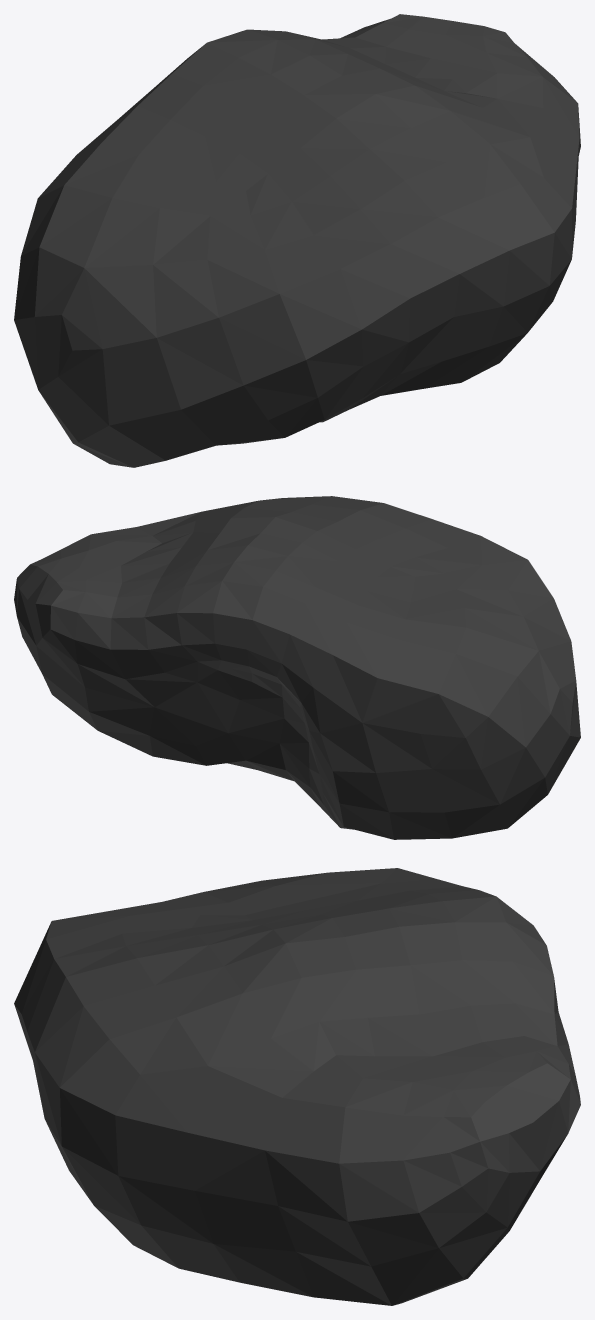
Rendered from LFL_radius_distal.glb.
3 views of the same model, one above another, from view 1: azimuth 30°, elevation 25°; view 2: azimuth 150°, elevation 25°; view 3: azimuth 270°, elevation 25° (orthographic). The views are drawn at different scales.
Parts seen in each view (by area): view 1: LFL_radius_distal; view 2: LFL_radius_distal; view 3: LFL_radius_distal.
Part boxes in pixels (x1,y1,x2,y2): LFL_radius_distal: (14,14,580,467); LFL_radius_distal: (14,496,580,839); LFL_radius_distal: (14,868,580,1305).
Bounding box in the file's own units: 15.82 × 8.53 × 11.8.
1 material, 1 textured.
